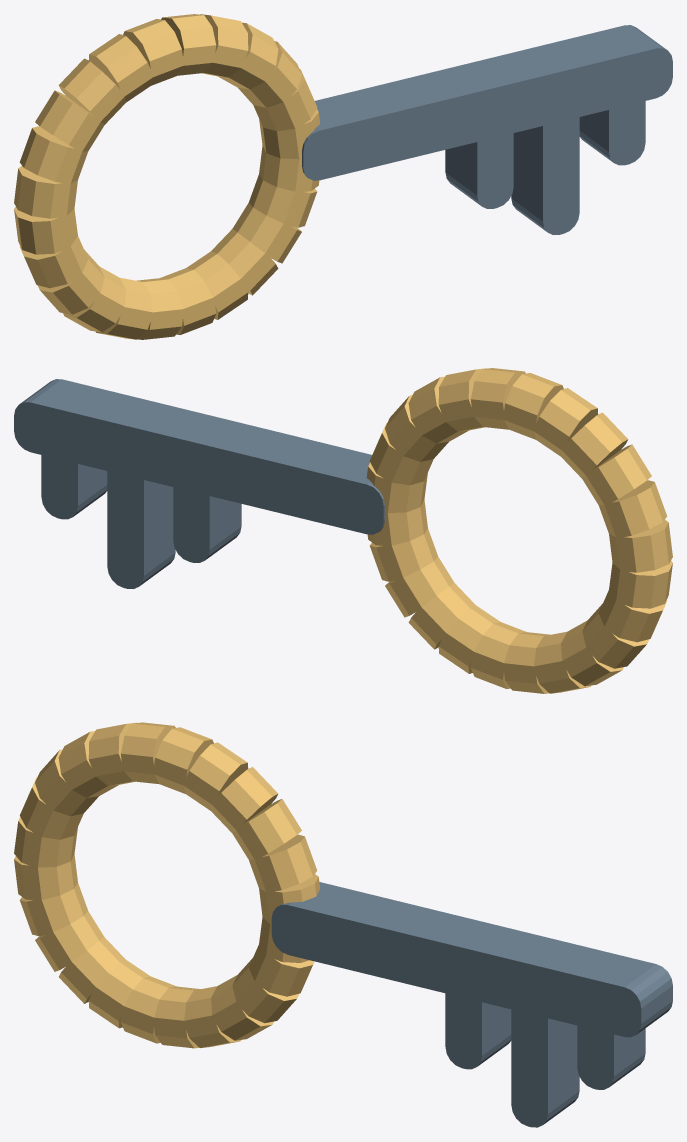
File: key.glb
The picture shows the model from 3 angles, top to bottom: view 1: azimuth 30°, elevation 25°; view 2: azimuth 150°, elevation 25°; view 3: azimuth 330°, elevation 25°; orthographic projection.
Visible parts, largest first — view 1: shaft, tooth 1, tooth 0, tooth 2, key ring10, key ring7, key ring8, key ring9, key ring11, key ring6, key ring12, key ring5 (+16 smaller); view 2: shaft, tooth 1, tooth 0, tooth 2, key ring10, key ring7, key ring8, key ring9, key ring11, key ring6, key ring12, key ring5 (+16 smaller); view 3: shaft, tooth 1, tooth 0, tooth 2, key ring1, key ring4, key ring3, key ring2, key ring5, key ring6, key ring14, key ring15 (+16 smaller).
Boxes of the visible parts, x1=… form: shaft: x1=302, y1=25, x2=672, y2=180; tooth 1: x1=511, y1=103, x2=579, y2=234; tooth 0: x1=445, y1=119, x2=513, y2=208; tooth 2: x1=579, y1=87, x2=645, y2=165; key ring10: x1=19, y1=126, x2=88, y2=184; key ring7: x1=88, y1=34, x2=153, y2=102; key ring8: x1=58, y1=58, x2=125, y2=124; key ring9: x1=35, y1=90, x2=104, y2=151; key ring11: x1=14, y1=166, x2=77, y2=218; key ring6: x1=123, y1=19, x2=183, y2=85; key ring12: x1=14, y1=207, x2=77, y2=254; key ring5: x1=161, y1=14, x2=216, y2=75; shaft: x1=14, y1=379, x2=384, y2=534; tooth 1: x1=107, y1=457, x2=175, y2=588; tooth 0: x1=173, y1=473, x2=241, y2=562; tooth 2: x1=41, y1=442, x2=107, y2=519; key ring10: x1=598, y1=480, x2=667, y2=538; key ring7: x1=533, y1=388, x2=598, y2=456; key ring8: x1=561, y1=412, x2=628, y2=478; key ring9: x1=582, y1=444, x2=651, y2=505; key ring11: x1=609, y1=520, x2=672, y2=572; key ring6: x1=503, y1=373, x2=563, y2=439; key ring12: x1=609, y1=561, x2=672, y2=608; key ring5: x1=470, y1=368, x2=525, y2=429; shaft: x1=271, y1=882, x2=672, y2=1037; tooth 1: x1=511, y1=996, x2=579, y2=1127; tooth 0: x1=445, y1=981, x2=511, y2=1069; tooth 2: x1=577, y1=1012, x2=645, y2=1089; key ring1: x1=249, y1=834, x2=317, y2=891; key ring4: x1=183, y1=742, x2=248, y2=810; key ring3: x1=211, y1=767, x2=278, y2=833; key ring2: x1=232, y1=799, x2=301, y2=859; key ring5: x1=154, y1=727, x2=213, y2=793; key ring6: x1=120, y1=722, x2=175, y2=784; key ring14: x1=35, y1=911, x2=104, y2=971; key ring15: x1=59, y1=937, x2=125, y2=1003.
Size of the model in its own units: 1.75 by 0.8228 by 0.15.
